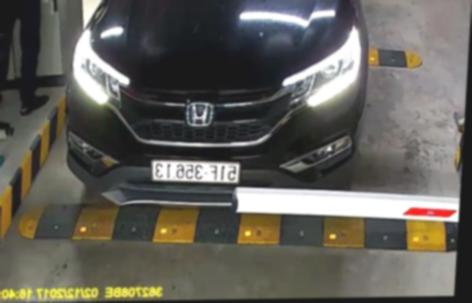License_Plate: (147, 156, 244, 187)
